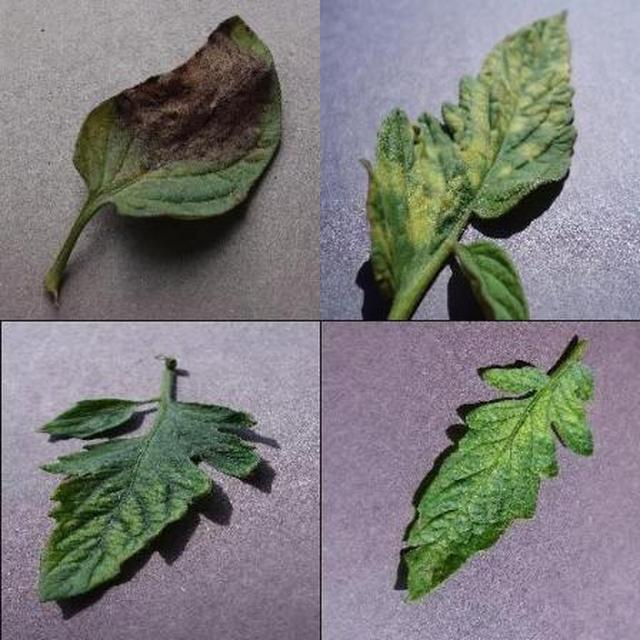Late Blight Leaf: (212, 167, 640, 640)
